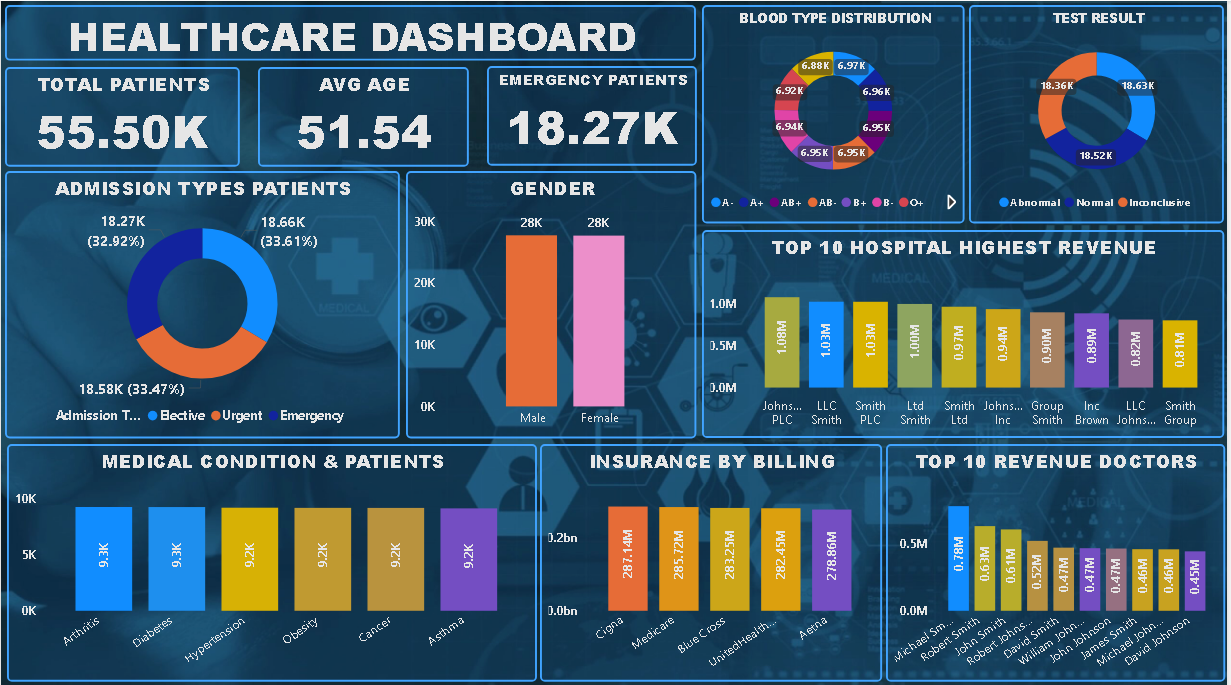

What the dashboard file says about the page in this screenshot:
{"tool":"powerbi","page":{"name":"Page 1","canvas":[1280,720],"ordinal":0},"visuals":[{"type":"textbox","title":"HEALTHCARE DASHBOARD","box":[4.6,4.6,721.1,58.2],"z":0},{"type":"card","title":"TOTAL  PATIENTS","fields":{"Values":["CountNonNull(healthcare_dataset.Name)"]},"box":[4.6,68.9,245,104.1],"z":1},{"type":"card","title":"AVG AGE","fields":{"Values":["Avg(healthcare_dataset.Age)"]},"box":[267.9,68.9,220.5,104.1],"z":2},{"type":"donutChart","title":"ADMISSION TYPES  PATIENTS","fields":{"Category":["healthcare_dataset.Admission Type"],"Y":["CountNonNull(healthcare_dataset.Admission Type)"]},"box":[4.6,177.6,411.9,278.7],"z":3},{"type":"columnChart","title":"GENDER ","fields":{"Category":["healthcare_dataset.Gender"],"Y":["CountNonNull(healthcare_dataset.Name)"]},"box":[422.6,177.6,303.2,278.7],"z":4},{"type":"columnChart","title":"MEDICAL CONDITION & PATIENTS","fields":{"Category":["healthcare_dataset.Medical Condition"],"Y":["CountNonNull(healthcare_dataset.Name)"]},"box":[6.1,462.4,552.7,248],"z":5},{"type":"donutChart","title":"BLOOD TYPE DISTRIBUTION ","fields":{"Category":["healthcare_dataset.Blood Type"],"Y":["CountNonNull(healthcare_dataset.Name)"]},"box":[731.9,4.6,274.1,228.1],"z":6},{"type":"clusteredColumnChart","title":"TOP 10 REVENUE DOCTORS","fields":{"Category":["healthcare_dataset.Doctor"],"Y":["Sum(healthcare_dataset.Billing Amount)"]},"box":[923.3,462.4,353.7,248],"z":7},{"type":"clusteredColumnChart","title":"TOP 10 HOSPITAL HIGHEST REVENUE","fields":{"Category":["healthcare_dataset.Hospital"],"Y":["Sum(healthcare_dataset.Billing Amount)"]},"box":[731.9,238.9,545.1,217.4],"z":8},{"type":"donutChart","title":"TEST RESULT","fields":{"Category":["healthcare_dataset.Test Results"],"Y":["CountNonNull(healthcare_dataset.Name)"]},"box":[1010.5,4.6,266.4,228.1],"z":9},{"type":"columnChart","title":"INSURANCE BY BILLING","fields":{"Category":["healthcare_dataset.Insurance Provider"],"Y":["Sum(healthcare_dataset.Billing Amount)"]},"box":[561.9,462.4,356.7,248],"z":10},{"type":"card","title":"EMERGENCY  PATIENTS","fields":{"Values":["CountNonNull(healthcare_dataset.Name)"]},"box":[506.8,67.4,218.9,104.1],"z":11}]}

Visuals, with their boxes in screenshot pixels (x1, y1, x2, y2), scaled from the page's 1280x720 canvas onto the 1231x685 screenshot:
"HEALTHCARE DASHBOARD" textbox: box=[4, 4, 698, 60]
"TOTAL  PATIENTS" card: box=[4, 66, 240, 165]
"AVG AGE" card: box=[258, 66, 470, 165]
"ADMISSION TYPES  PATIENTS" donutChart: box=[4, 169, 401, 434]
"GENDER " columnChart: box=[406, 169, 698, 434]
"MEDICAL CONDITION & PATIENTS" columnChart: box=[6, 440, 537, 676]
"BLOOD TYPE DISTRIBUTION " donutChart: box=[704, 4, 967, 221]
"TOP 10 REVENUE DOCTORS" clusteredColumnChart: box=[888, 440, 1228, 676]
"TOP 10 HOSPITAL HIGHEST REVENUE" clusteredColumnChart: box=[704, 227, 1228, 434]
"TEST RESULT" donutChart: box=[972, 4, 1228, 221]
"INSURANCE BY BILLING" columnChart: box=[540, 440, 883, 676]
"EMERGENCY  PATIENTS" card: box=[487, 64, 698, 163]
